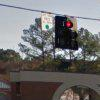Traffic light: (52, 7, 84, 61)
